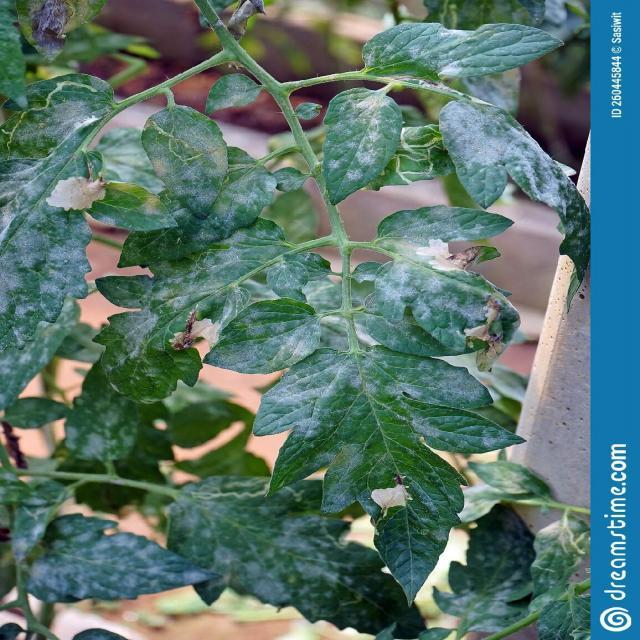Tomato target spot leaf: (0, 73, 113, 174), (140, 105, 228, 220), (361, 122, 458, 192), (529, 516, 590, 600), (182, 476, 308, 508)
